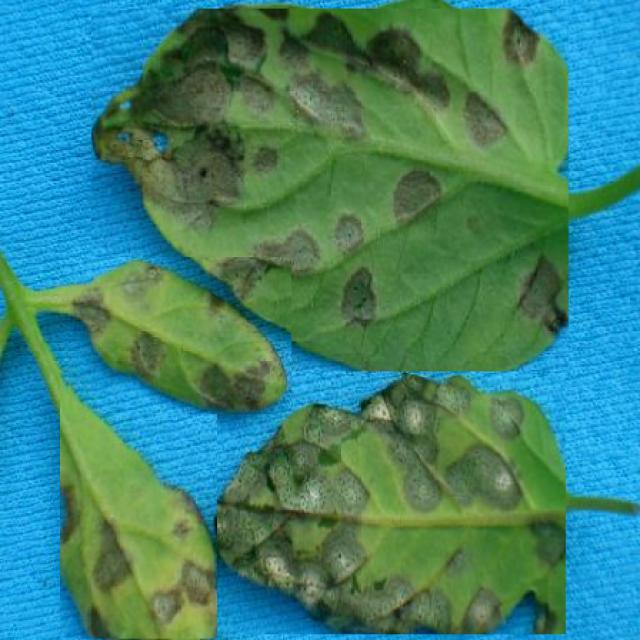Septoria: (91, 9, 569, 372), (207, 374, 566, 635), (59, 374, 218, 639), (68, 256, 292, 414)
